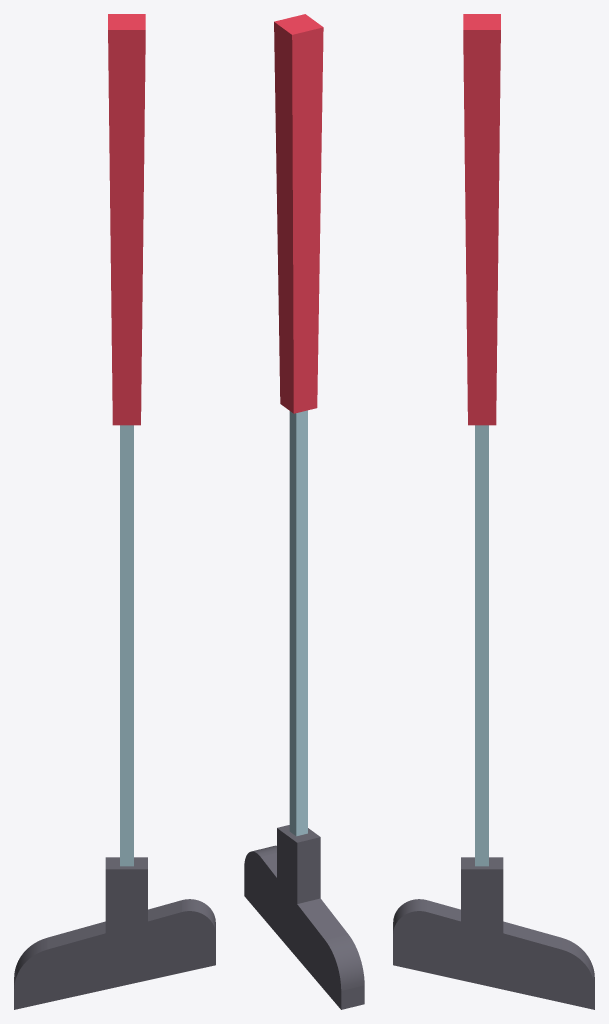
Rendered from club_red.fbx.
The picture shows the model from 3 angles, left to right: view 1: azimuth 90°, elevation 25°; view 2: azimuth 210°, elevation 25°; view 3: azimuth 270°, elevation 25°; orthographic projection. The views are drawn at different scales.
Parts seen in each view (by area): view 1: club_red; view 2: club_red; view 3: club_red.
Boxes of the visible parts, x1,y1,x2,y2 form: club_red: (14, 14, 215, 1009); club_red: (244, 14, 364, 1009); club_red: (393, 14, 594, 1009).
Bounding box in the file's own units: 0.3453 × 9.9 × 1.84.
